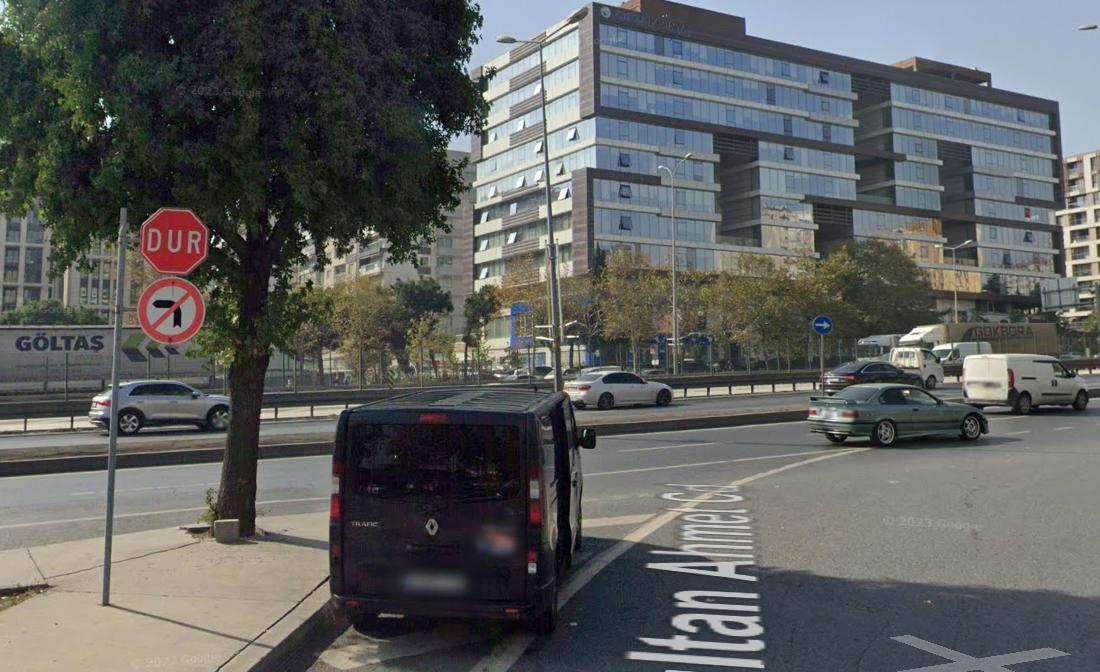leftturnsareforbidden: (138, 278, 205, 344)
stop: (139, 207, 208, 274)
